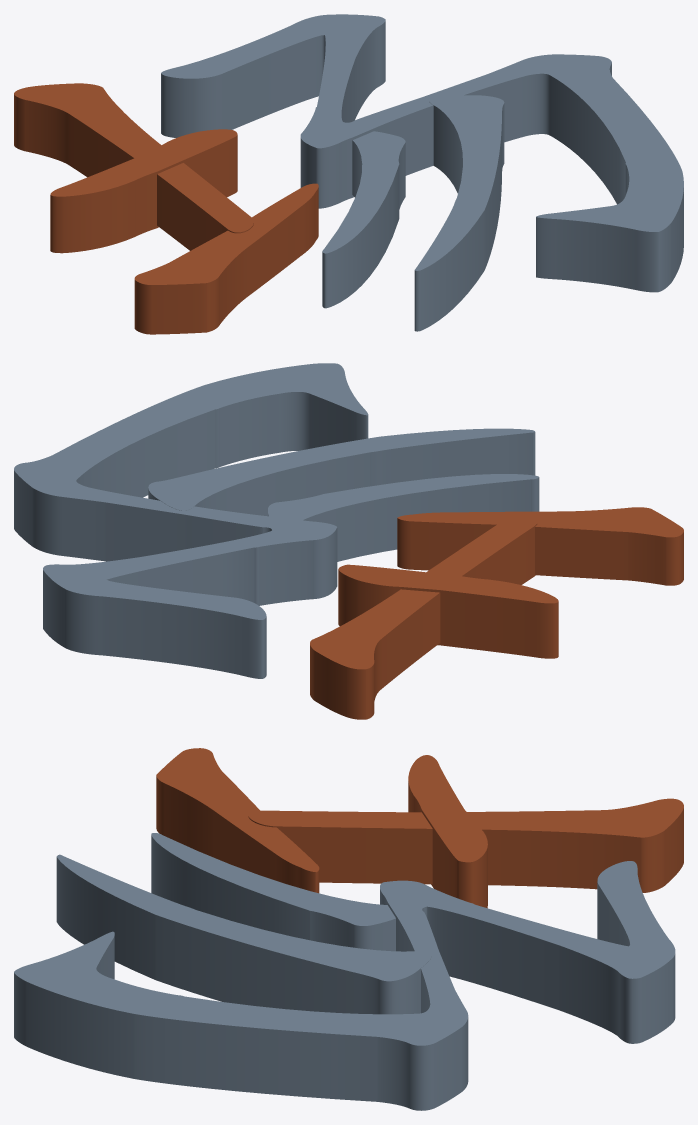
Rendered from hanzi92.fbx.
3 views of the same model, one above another, from view 1: azimuth 30°, elevation 25°; view 2: azimuth 150°, elevation 25°; view 3: azimuth 270°, elevation 25° (orthographic). The views are drawn at different scales.
Visible parts, largest first — view 1: Curve.003, Curve.001, Curve.002, Curve.005, Curve, Curve.004; view 2: Curve.003, Curve.005, Curve.001, Curve.002, Curve, Curve.004; view 3: Curve.003, Curve.005, Curve.001, Curve.004, Curve.002, Curve.
Part boxes in pixels (left/top/right/bottom): Curve.003: left=161, top=14, right=683, bottom=292; Curve.001: left=14, top=83, right=253, bottom=250; Curve.002: left=134, top=183, right=318, bottom=334; Curve.005: left=414, top=95, right=504, bottom=331; Curve: left=50, top=129, right=237, bottom=253; Curve.004: left=322, top=131, right=405, bottom=308; Curve.003: left=14, top=363, right=368, bottom=678; Curve.005: left=148, top=428, right=535, bottom=516; Curve.001: left=310, top=518, right=537, bottom=719; Curve.002: left=397, top=507, right=683, bottom=585; Curve: left=338, top=564, right=558, bottom=658; Curve.004: left=268, top=474, right=539, bottom=561; Curve.003: left=14, top=861, right=675, bottom=1110; Curve.005: left=56, top=854, right=431, bottom=1014; Curve.001: left=248, top=798, right=683, bottom=892; Curve.004: left=151, top=833, right=395, bottom=951; Curve.002: left=156, top=748, right=319, bottom=893; Curve: left=408, top=755, right=487, bottom=908.
Bounding box in the file's own units: 23.76 × 22.16 × 2.39.
